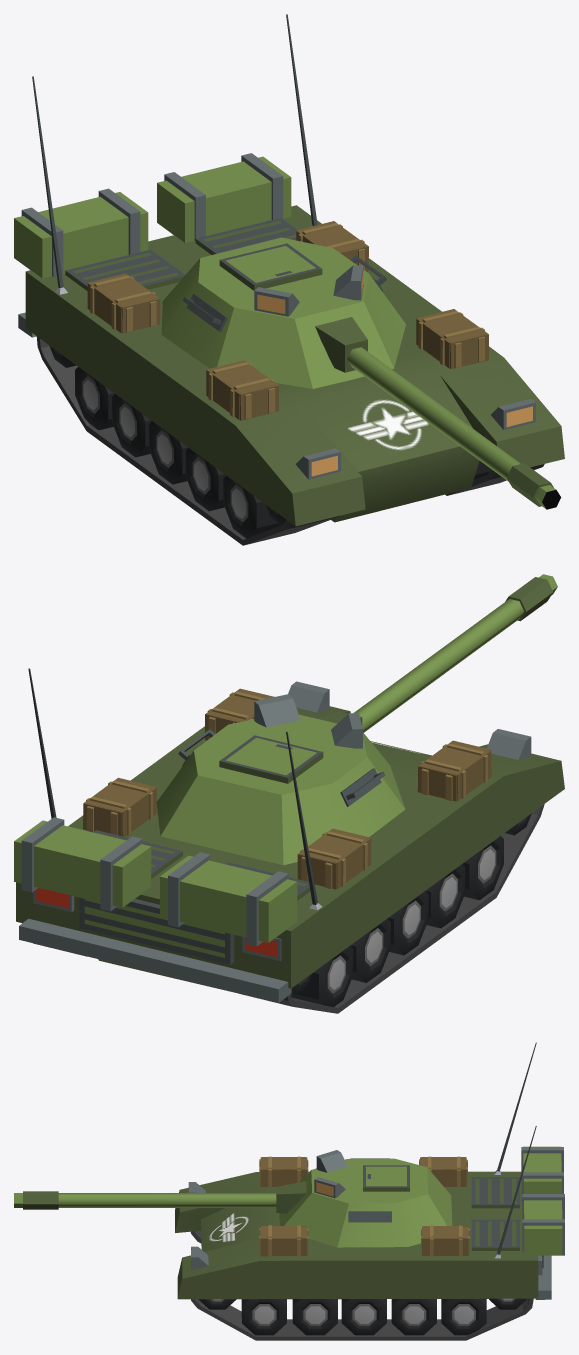
The model's file is Tank_02.FBX.
3 renders of one model, top to bottom at view 1: azimuth 30°, elevation 25°; view 2: azimuth 150°, elevation 25°; view 3: azimuth 270°, elevation 25°, orthographic. The views are drawn at different scales.
Visible parts, largest first — view 1: Tank_02; view 2: Tank_02; view 3: Tank_02.
Boxes of the visible parts, x1,y1,x2,y2 form: Tank_02: (14, 14, 564, 545); Tank_02: (14, 574, 564, 1013); Tank_02: (14, 1042, 564, 1340).
Size of the model in its own units: 3.94 by 4.4 by 10.3.
Materials: 1 (1 with a texture image).
